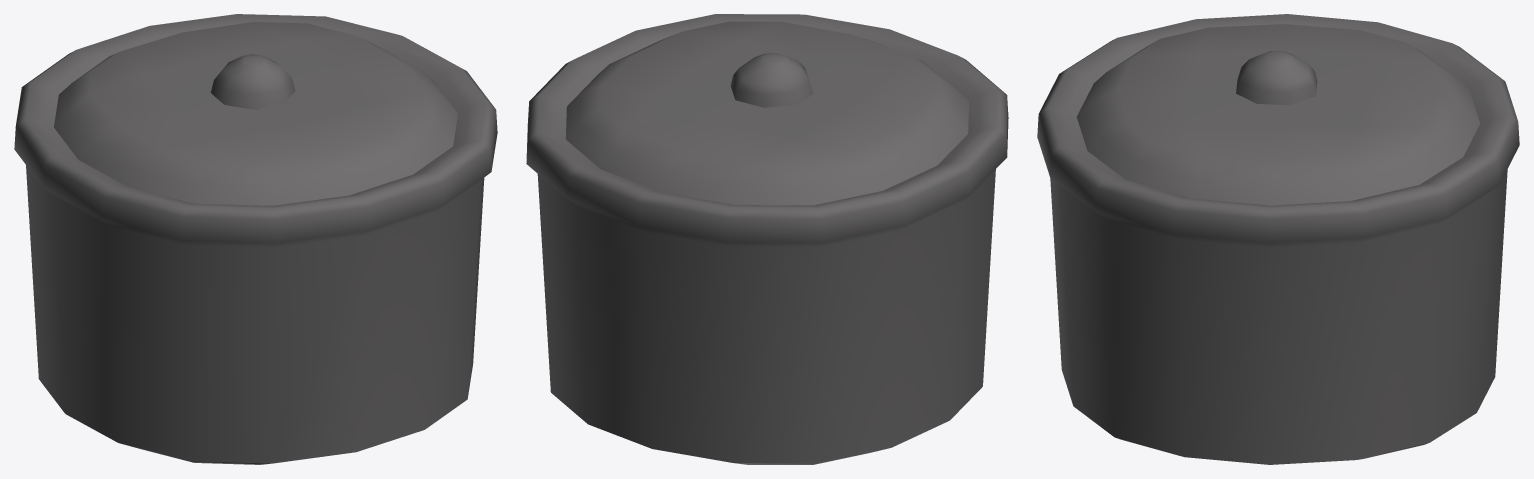
Rendered from Saucepan_2.glb.
3 views of the same model, side by side, from view 1: azimuth 30°, elevation 25°; view 2: azimuth 150°, elevation 25°; view 3: azimuth 270°, elevation 25° (orthographic).
Parts seen in each view (by area): view 1: Saucepan_2; view 2: Saucepan_2; view 3: Saucepan_2.
Boxes of the visible parts, box(x1,y1,x2,y2) form: Saucepan_2: box(14, 14, 497, 464); Saucepan_2: box(526, 14, 1008, 464); Saucepan_2: box(1037, 14, 1519, 464).
Bounding box in the file's own units: 0.2708 × 0.2029 × 0.2708.
1 material, 1 textured.
